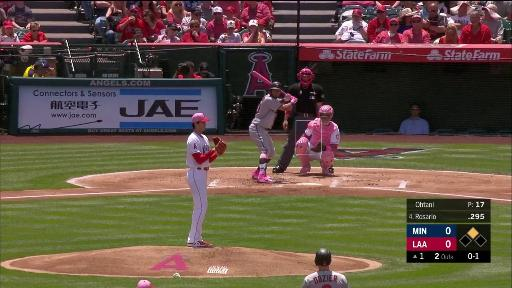pitcher: (186, 112, 228, 247)
